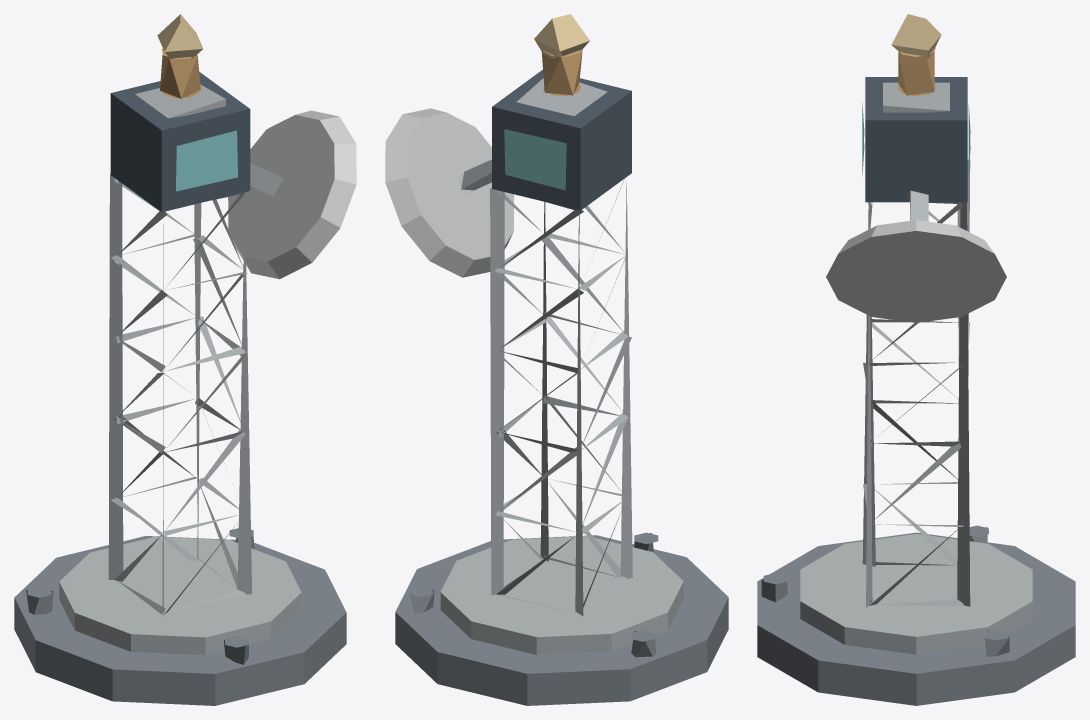
The picture shows the model from 3 angles, left to right: view 1: azimuth 30°, elevation 25°; view 2: azimuth 150°, elevation 25°; view 3: azimuth 270°, elevation 25°; orthographic projection.
Visible parts, largest first — view 1: sea_sensor_tower.001; view 2: sea_sensor_tower.001; view 3: sea_sensor_tower.001.
Part boxes in pixels (<box>): sea_sensor_tower.001: <box>14,14,356,705</box>; sea_sensor_tower.001: <box>385,14,728,705</box>; sea_sensor_tower.001: <box>757,14,1075,705</box>.
Bounding box in the file's own units: 1.79 × 3.47 × 1.62.
